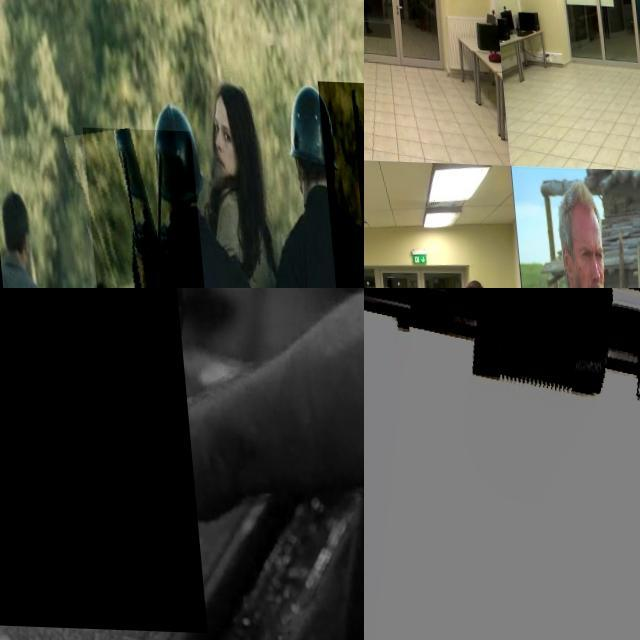gun-knife-thesis - v11 Yolov5 augmented: (364, 288, 640, 640), (0, 288, 197, 630), (80, 126, 221, 288), (364, 31, 375, 54)
